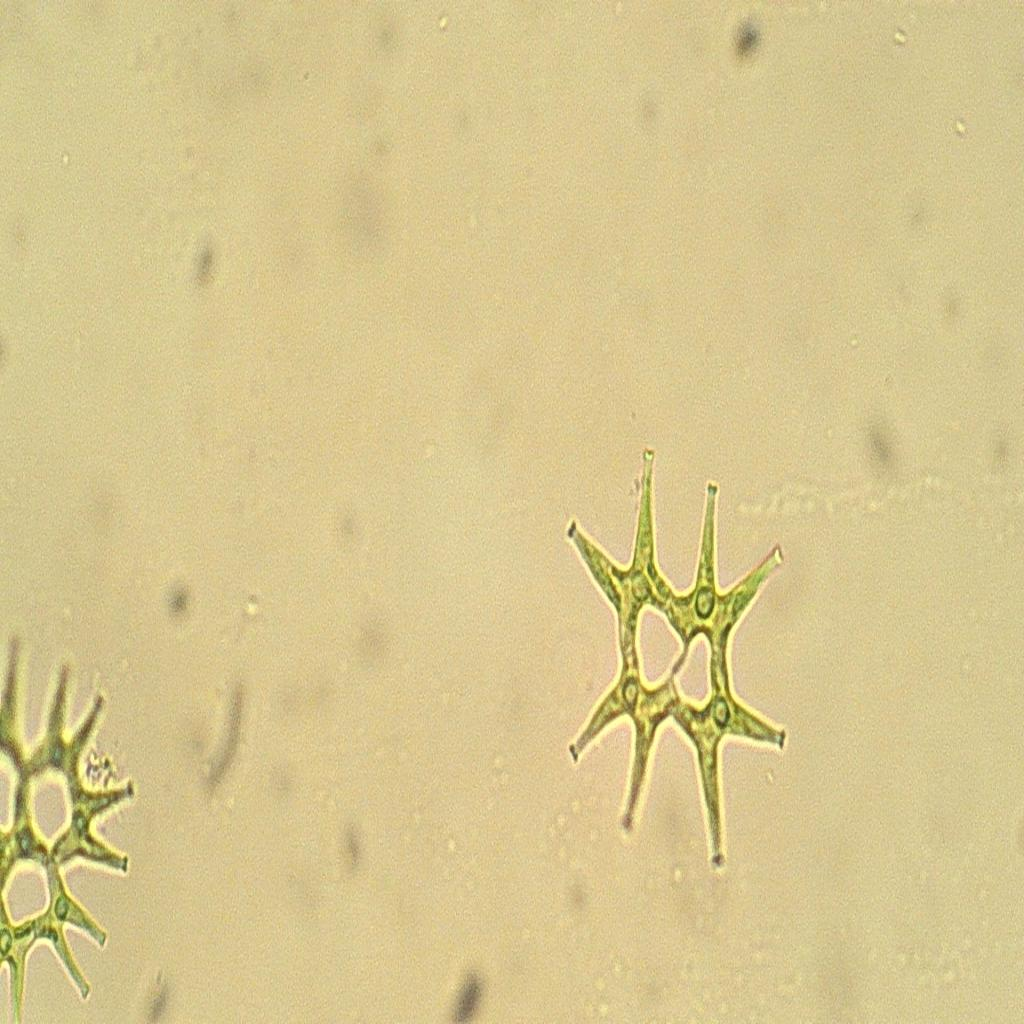Pediastrum_75FO: (548, 427, 809, 893)
